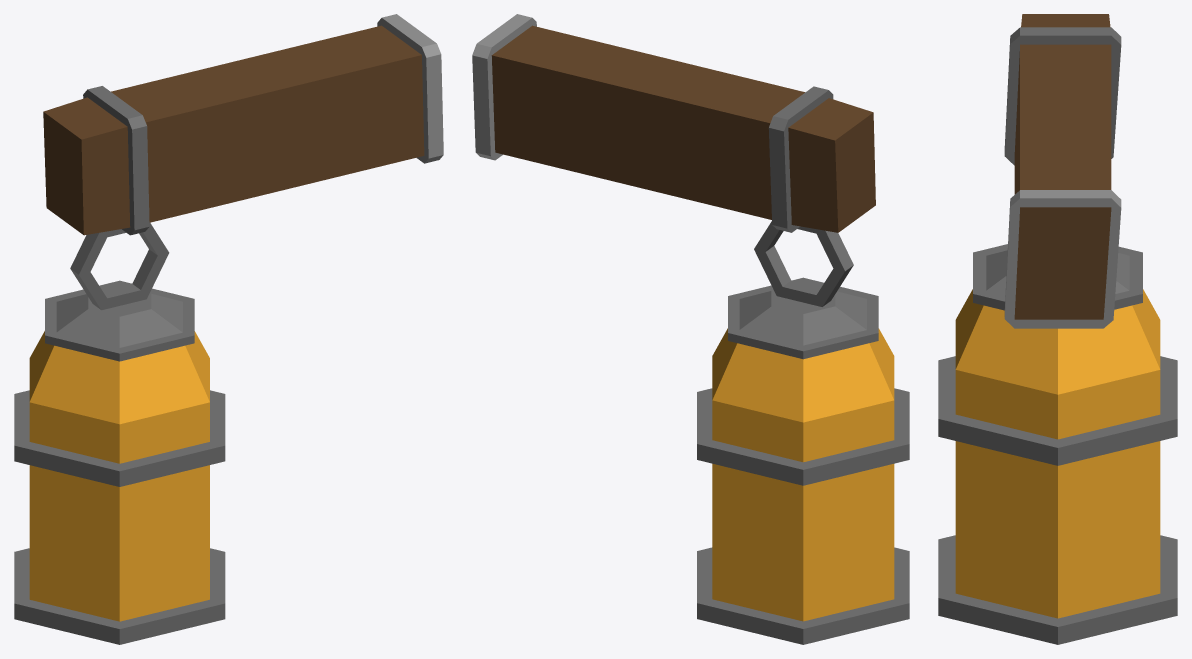
Rendered from Lamp_Hanging_01.fbx.
3 renders of one model, left to right at view 1: azimuth 30°, elevation 25°; view 2: azimuth 150°, elevation 25°; view 3: azimuth 270°, elevation 25°, orthographic. The views are drawn at different scales.
Parts seen in each view (by area): view 1: Model; view 2: Model; view 3: Model.
Boxes of the visible parts, x1,y1,x2,y2 form: Model: (14, 14, 443, 644); Model: (472, 14, 909, 644); Model: (938, 14, 1177, 644).
Size of the model in its own units: 490 by 563 by 221.
